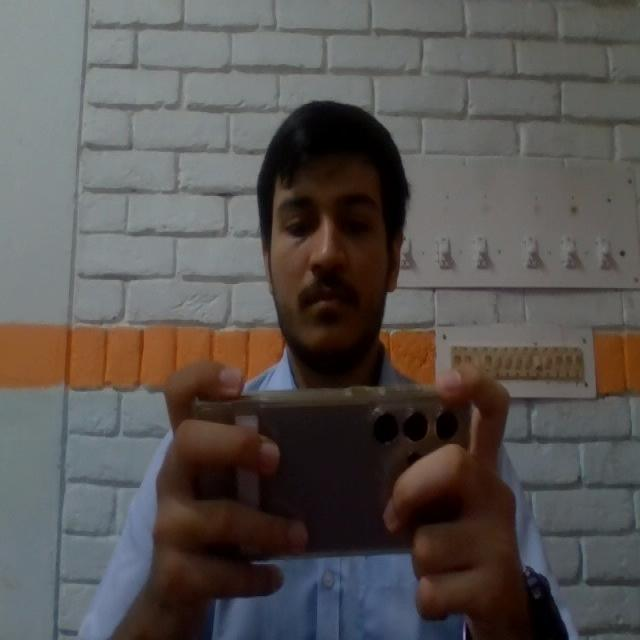phone: (184, 388, 486, 555)
using-phone: (73, 100, 595, 640)
